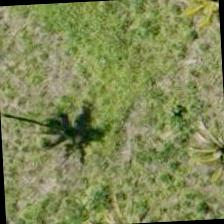Kelapa_Sawit: (170, 106, 223, 200)
